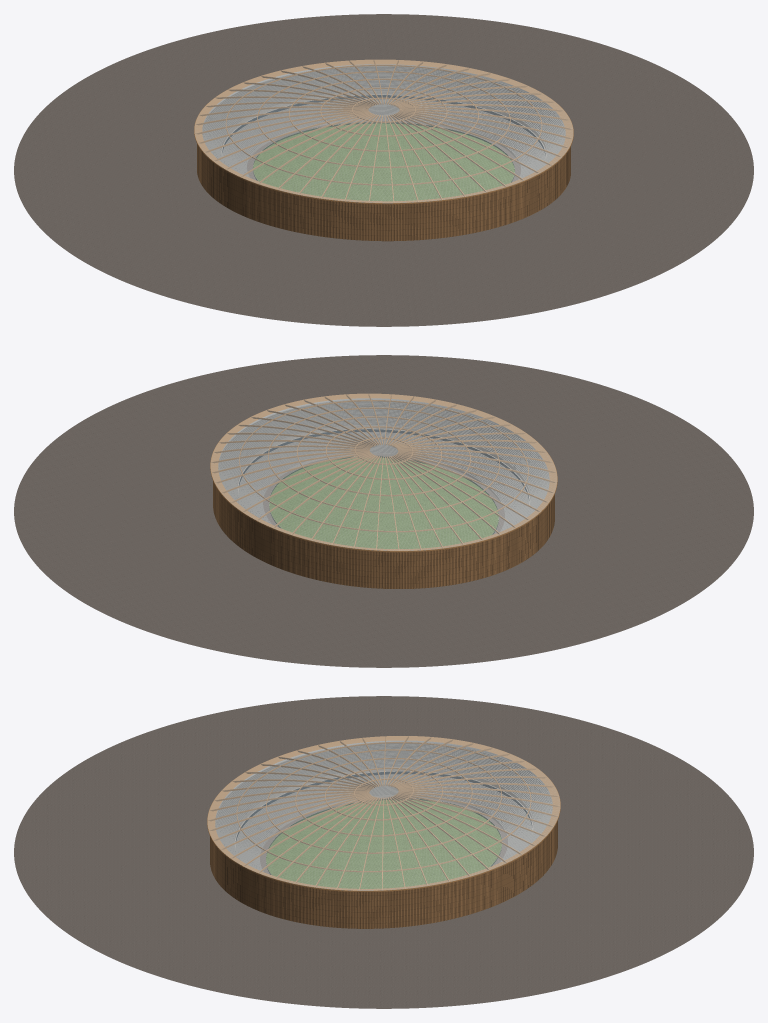
The model's file is macpoint.glb.
The picture shows the model from 3 angles, top to bottom: view 1: azimuth 30°, elevation 25°; view 2: azimuth 150°, elevation 25°; view 3: azimuth 270°, elevation 25°; orthographic projection.
Visible parts, largest first — view 1: concourse, roofs, stands; view 2: concourse, roofs, stands; view 3: concourse, roofs, stands.
Boxes of the visible parts, left/top/right/bottom form: concourse: left=14, top=14, right=753, bottom=326; roofs: left=194, top=59, right=573, bottom=204; stands: left=197, top=66, right=570, bottom=241; concourse: left=14, top=355, right=753, bottom=667; roofs: left=210, top=393, right=557, bottom=552; stands: left=213, top=399, right=554, bottom=588; concourse: left=14, top=696, right=753, bottom=1008; roofs: left=207, top=736, right=560, bottom=891; stands: left=210, top=742, right=557, bottom=928.
Size of the model in its own units: 480 by 44.05 by 480.
12 materials, 12 textured.
